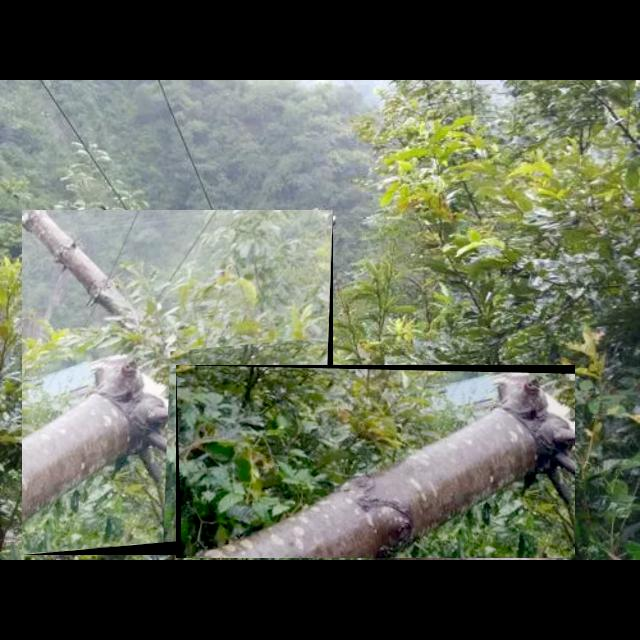Fallen Tree: (22, 210, 334, 556), (176, 365, 576, 559)
